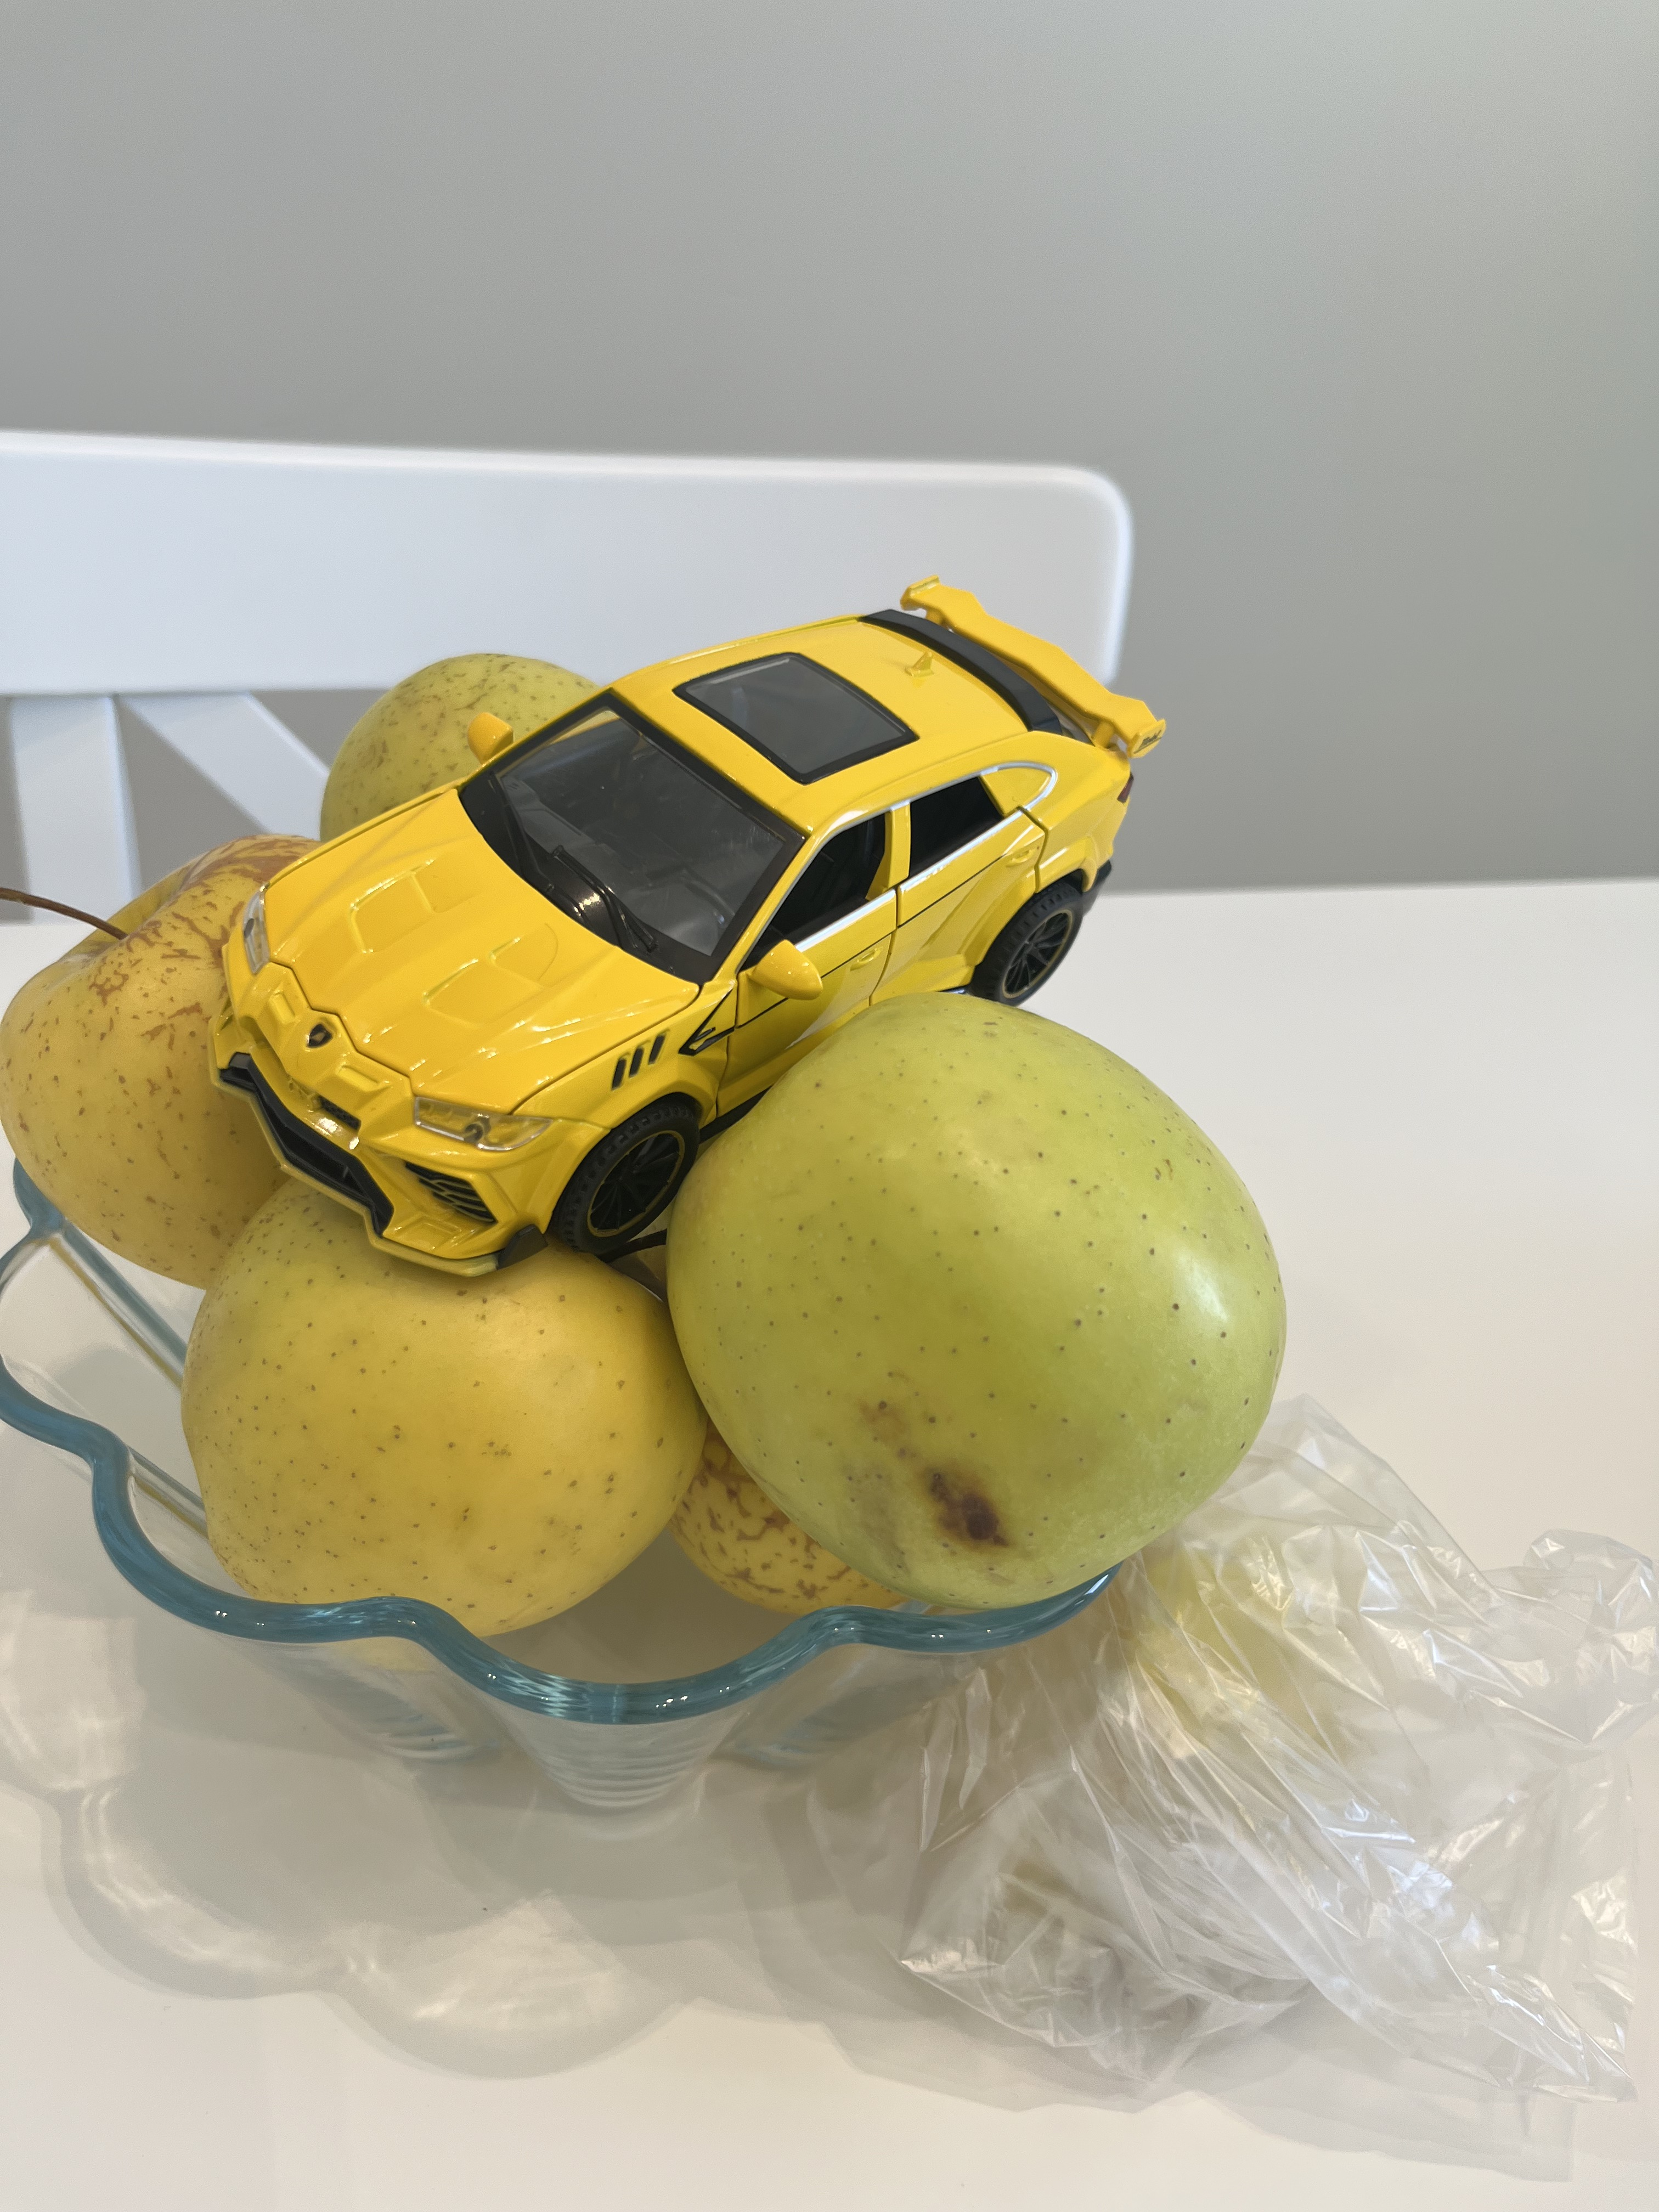lambo: (188, 566, 1152, 1271)
